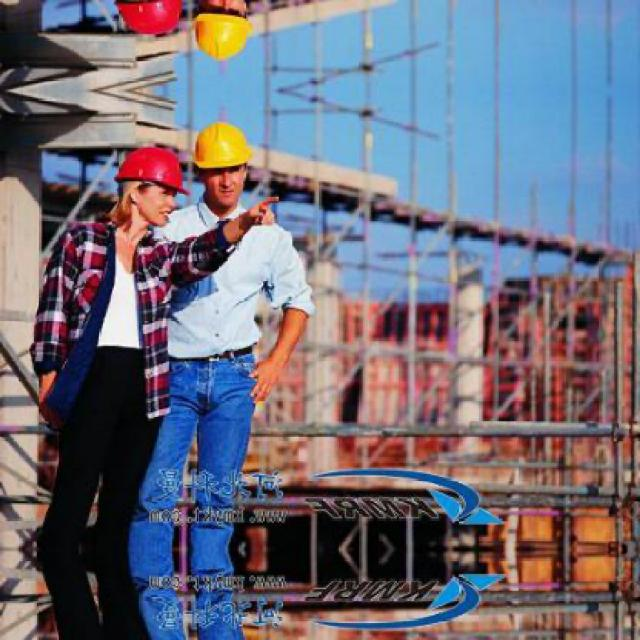helmet: (110, 140, 196, 228), (186, 112, 259, 212), (186, 0, 260, 68), (108, 0, 195, 40)
